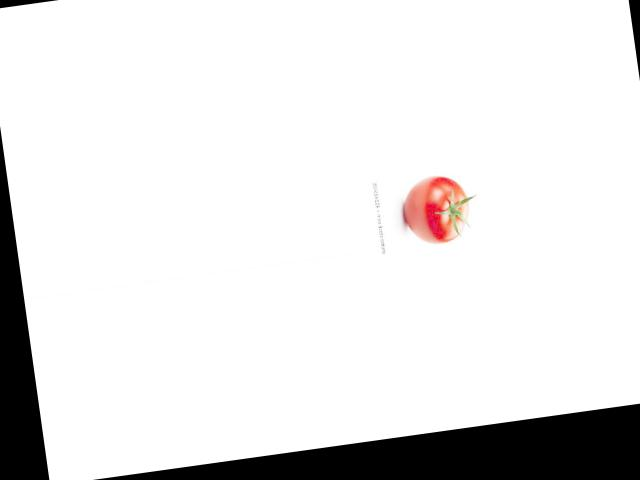tomato: (399, 172, 473, 246)
